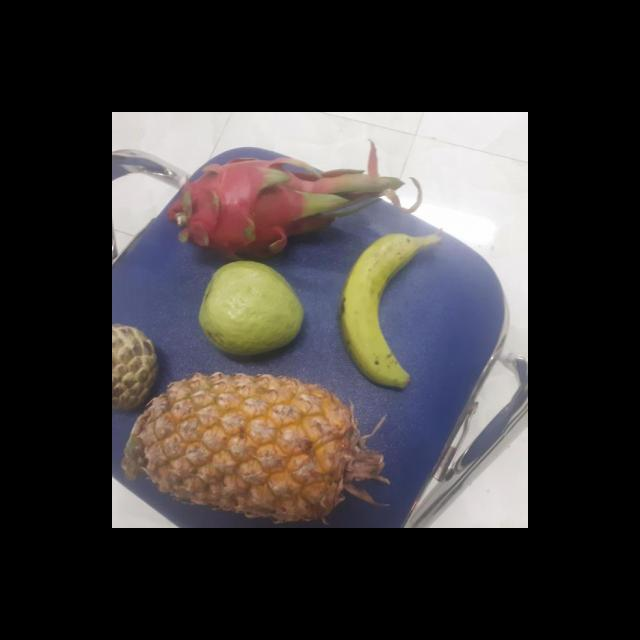Sakya fruit: (112, 325, 166, 413)
banana: (341, 235, 434, 385)
guava: (199, 262, 308, 355)
pineapple: (132, 374, 384, 514)
pitaya: (174, 154, 319, 260)
